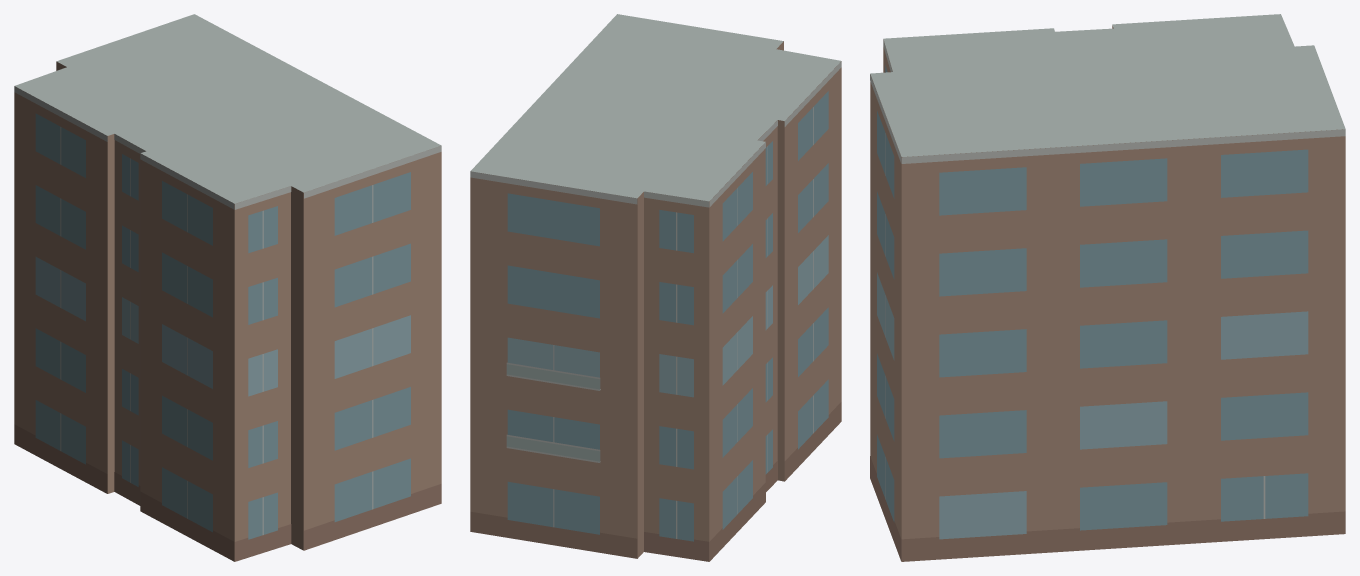
File: survey-upis-32707577.glb
The picture shows the model from 3 angles, left to right: view 1: azimuth 30°, elevation 25°; view 2: azimuth 150°, elevation 25°; view 3: azimuth 270°, elevation 25°; orthographic projection. The views are drawn at different scales.
Visible parts, largest first — view 1: survey-upis-32707577.tmp; view 2: survey-upis-32707577.tmp; view 3: survey-upis-32707577.tmp.
Part boxes in pixels (x1=…): survey-upis-32707577.tmp: x1=14, y1=14, x2=441, y2=561; survey-upis-32707577.tmp: x1=470, y1=14, x2=841, y2=561; survey-upis-32707577.tmp: x1=870, y1=14, x2=1345, y2=561.
Size of the model in its own units: 10.78 by 14.2 by 15.13.
